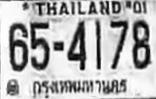1: (95, 20, 101, 71)
4: (67, 20, 87, 70)
5: (30, 22, 49, 70)
6: (9, 23, 28, 71)
7: (109, 20, 127, 69)
8: (131, 20, 150, 69)
BKK: (29, 77, 131, 96)
